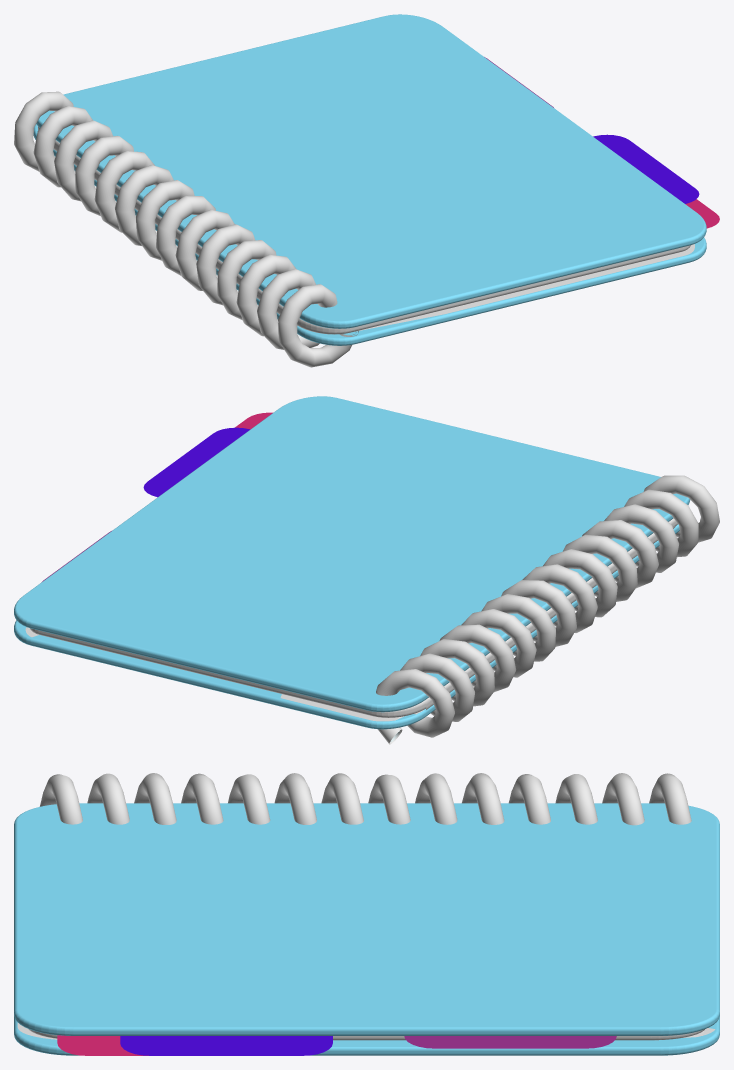
Rendered from NoteBook1.fbx.
The picture shows the model from 3 angles, top to bottom: view 1: azimuth 30°, elevation 25°; view 2: azimuth 150°, elevation 25°; view 3: azimuth 270°, elevation 25°; orthographic projection. The views are drawn at different scales.
Parts seen in each view (by area): view 1: Plane, Circle, Plane.001, Plane.003, Plane.005; view 2: Plane, Circle, Plane.001, Plane.003, Plane.005; view 3: Plane, Circle, Plane.001, Plane.005, Plane.006, Plane.004, Plane.003.
Part boxes in pixels (x1,y1,x2,y2): Plane: (36, 14, 706, 328); Circle: (14, 91, 358, 367); Plane.001: (33, 124, 706, 345); Plane.003: (37, 125, 694, 334); Plane.005: (593, 134, 699, 203); Plane: (14, 396, 690, 712); Circle: (376, 475, 719, 744); Plane.001: (14, 524, 679, 729); Plane.003: (25, 518, 677, 721); Plane.005: (143, 427, 250, 497); Plane: (14, 803, 719, 1035); Circle: (39, 773, 691, 825); Plane.001: (14, 1016, 719, 1055); Plane.005: (120, 1036, 332, 1055); Plane.006: (404, 1036, 616, 1048); Plane.004: (57, 1035, 148, 1055); Plane.003: (17, 1023, 715, 1040).
Bounding box in the file's own units: 2103 × 319 × 2424.
